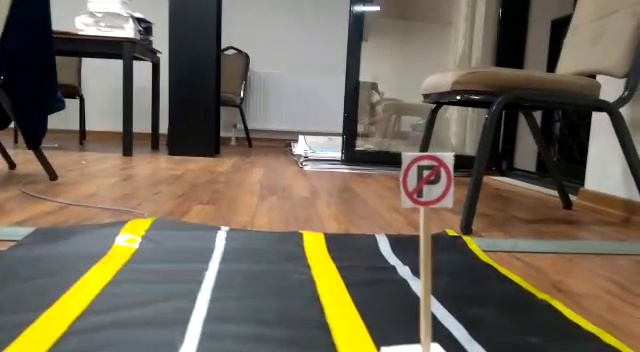park_yapilmaz: (397, 150, 455, 208)
